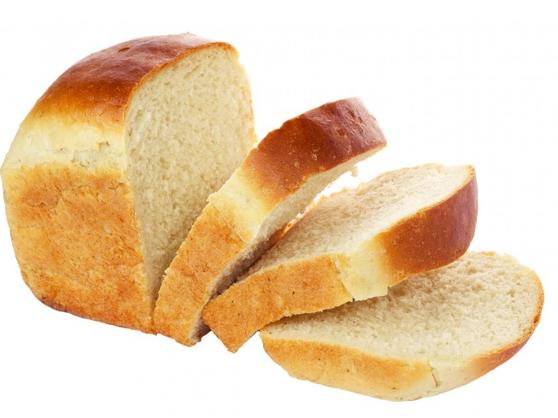white_bread: (5, 32, 260, 333)
